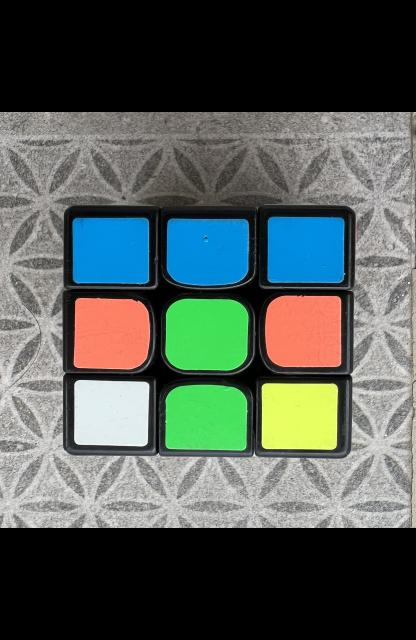Blue: (166, 218, 248, 285), (267, 217, 343, 283), (72, 218, 148, 284)
Green: (164, 298, 248, 371), (164, 385, 247, 451)
Orange: (264, 295, 340, 368), (73, 298, 149, 370)
White: (73, 380, 149, 447)
Yellow: (260, 383, 337, 450)
